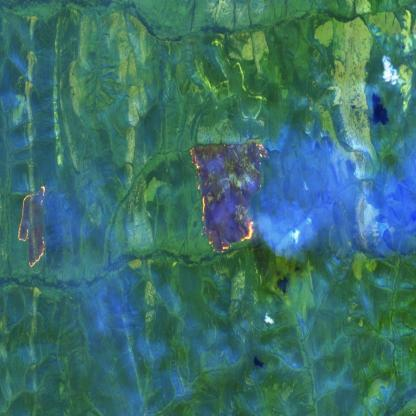fire: (187, 139, 271, 258), (16, 183, 48, 272)
